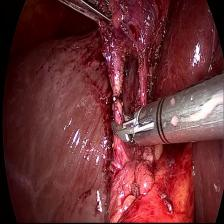Clipper: (104, 90, 174, 159)
Grasper: (63, 0, 113, 30)
